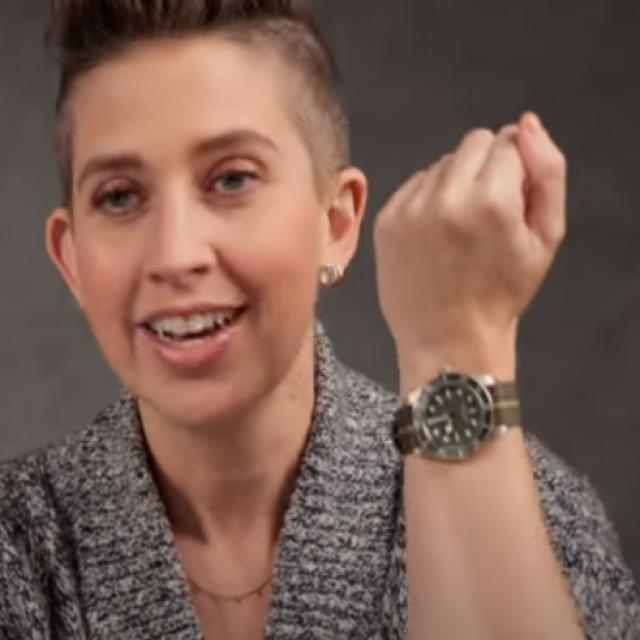Watch: (388, 370, 522, 468)
